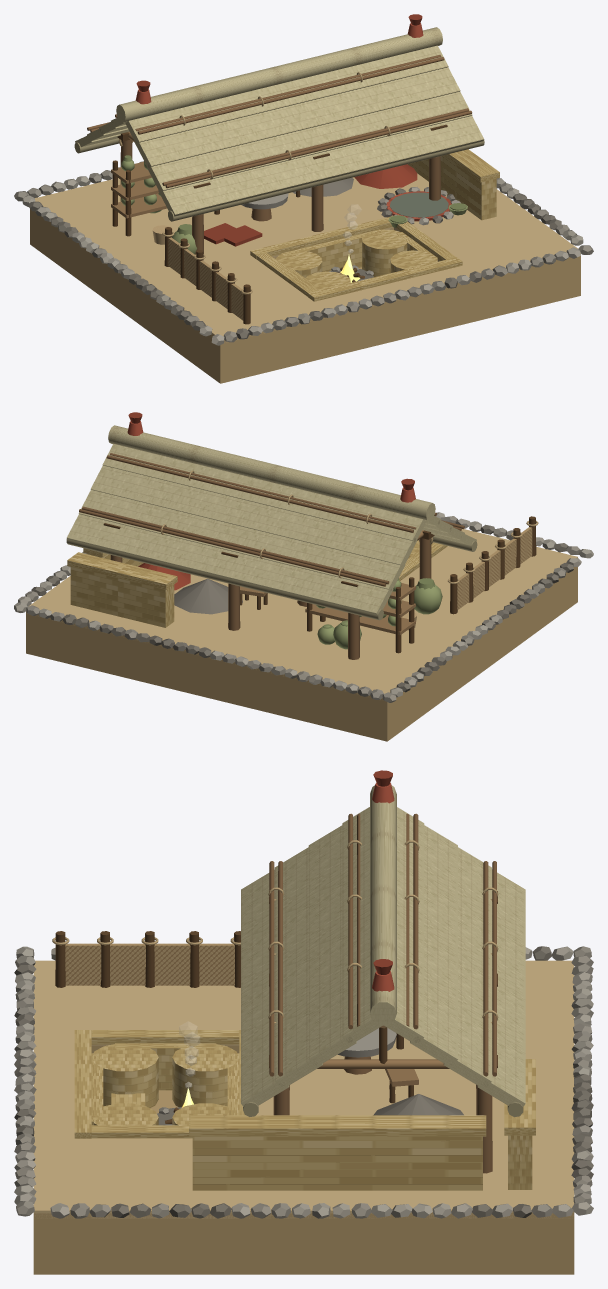
The model's file is rad-1-built.glb.
3 renders of one model, top to bottom at view 1: azimuth 30°, elevation 25°; view 2: azimuth 150°, elevation 25°; view 3: azimuth 270°, elevation 25°, orthographic. The views are drawn at different scales.
Size of the model in its own units: 18.67 by 9.22 by 17.17.
37 materials, 13 textured.
